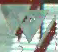Give way: (1, 0, 42, 43)
